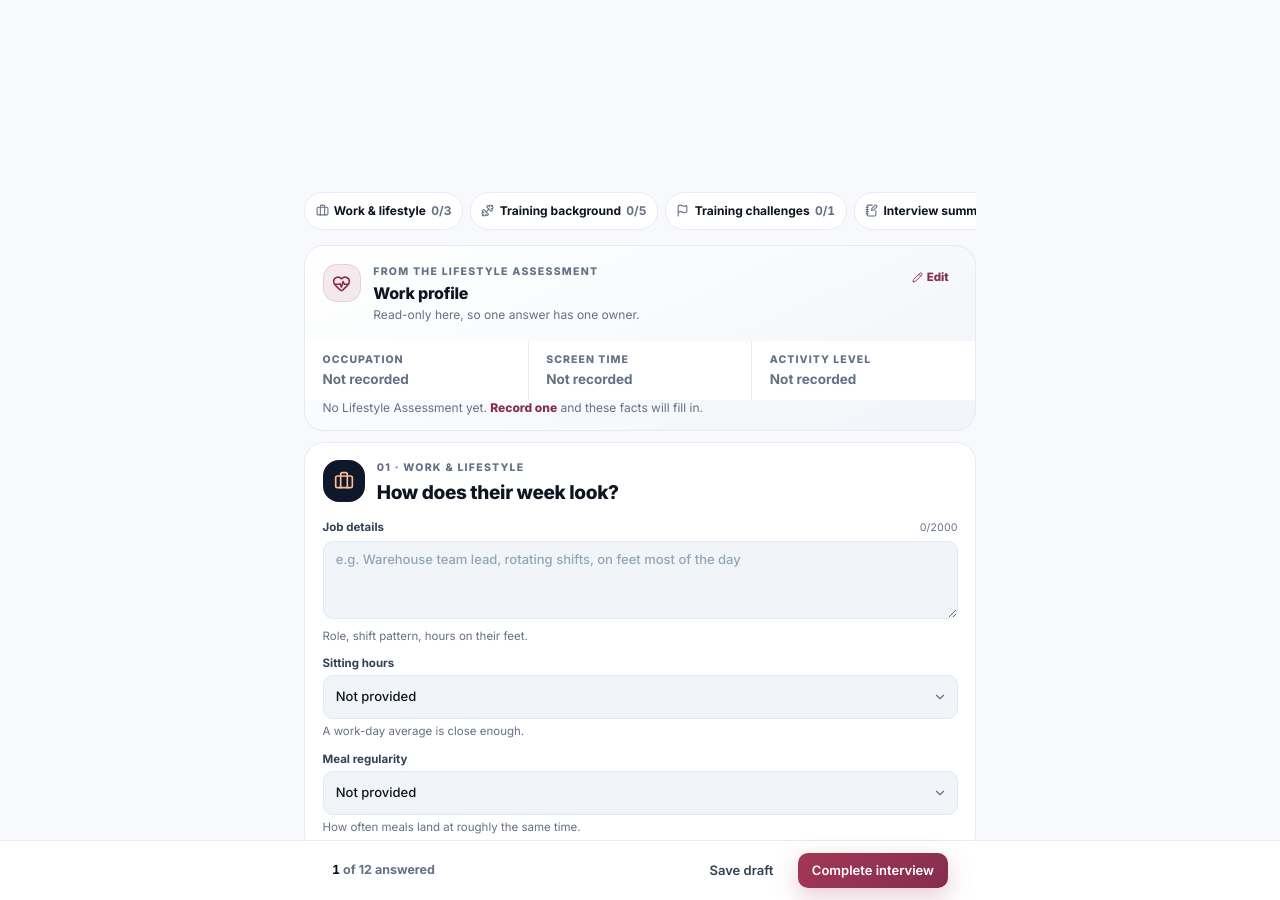
Scenario: <InterviewPage /> › completes a draft that is already answered, without needing an edit to send
Click the button "Complete interview" at (873,870), box top-left (798, 853), bottom-right (948, 888)
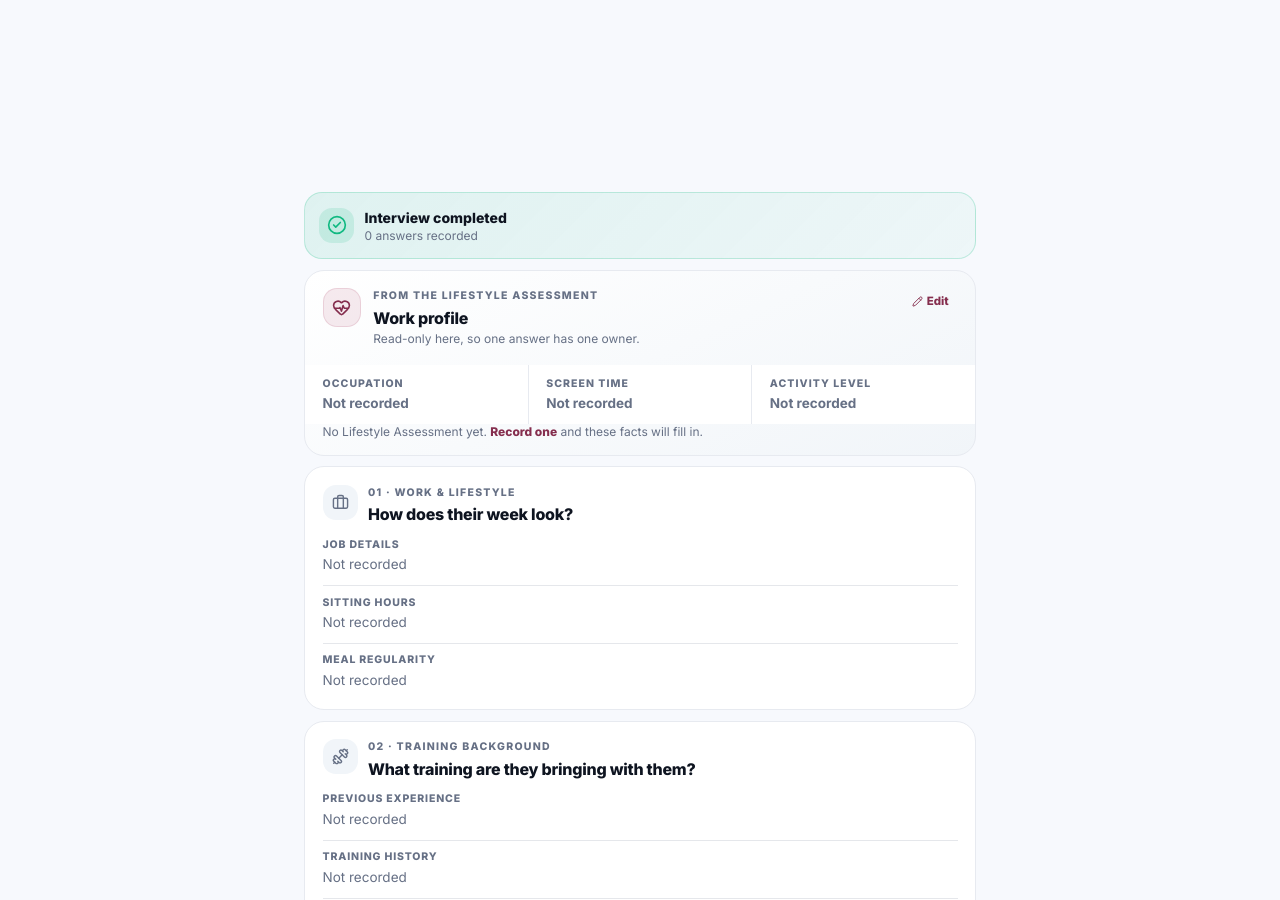
Now the text "Interview completed" is shown, box top-left (364, 207), bottom-right (507, 228)
